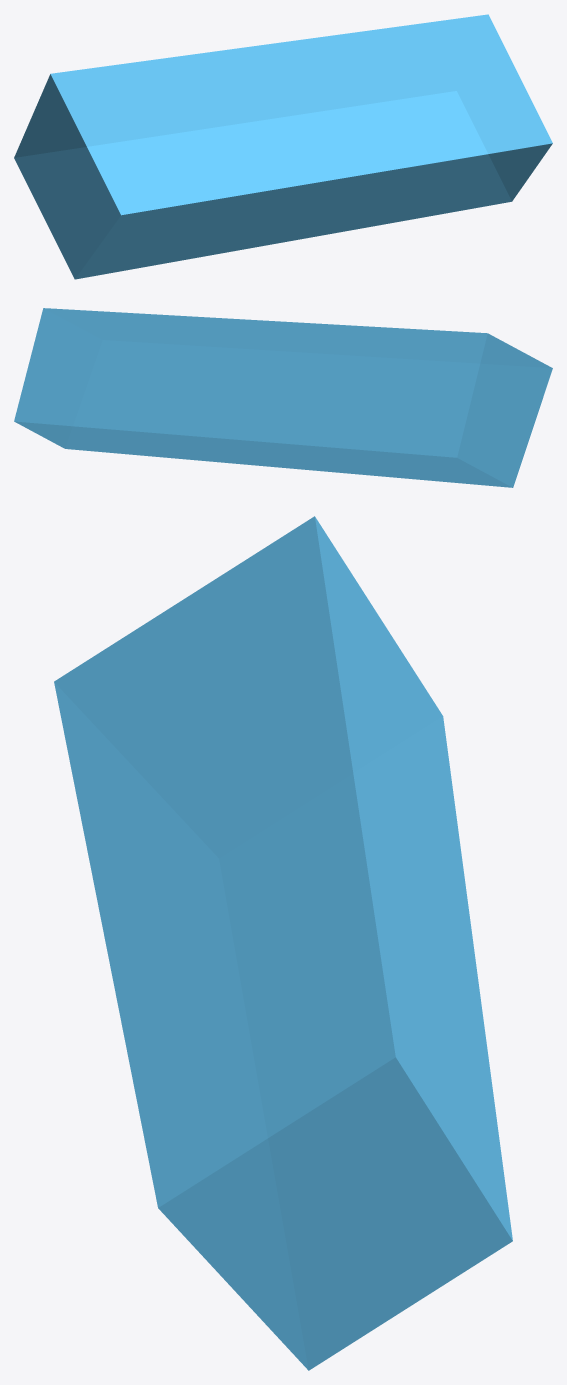
The model's file is Event_421364160_HErechit_54.fbx.
3 renders of one model, top to bottom at view 1: azimuth 30°, elevation 25°; view 2: azimuth 150°, elevation 25°; view 3: azimuth 270°, elevation 25°, orthographic. The views are drawn at different scales.
Parts seen in each view (by area): view 1: Model; view 2: Model; view 3: Model.
Boxes of the visible parts, box(x1,y1,x2,y2) form: Model: box(14, 14, 552, 279); Model: box(14, 308, 552, 487); Model: box(54, 516, 512, 1370).
Bounding box in the file's own units: 1.08 × 0.5348 × 0.5049.
